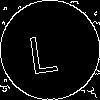L: (25, 25, 60, 74)
